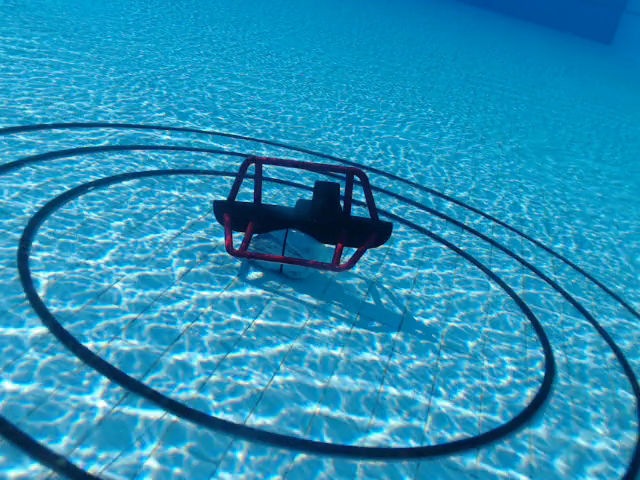submarine: (211, 154, 395, 274)
